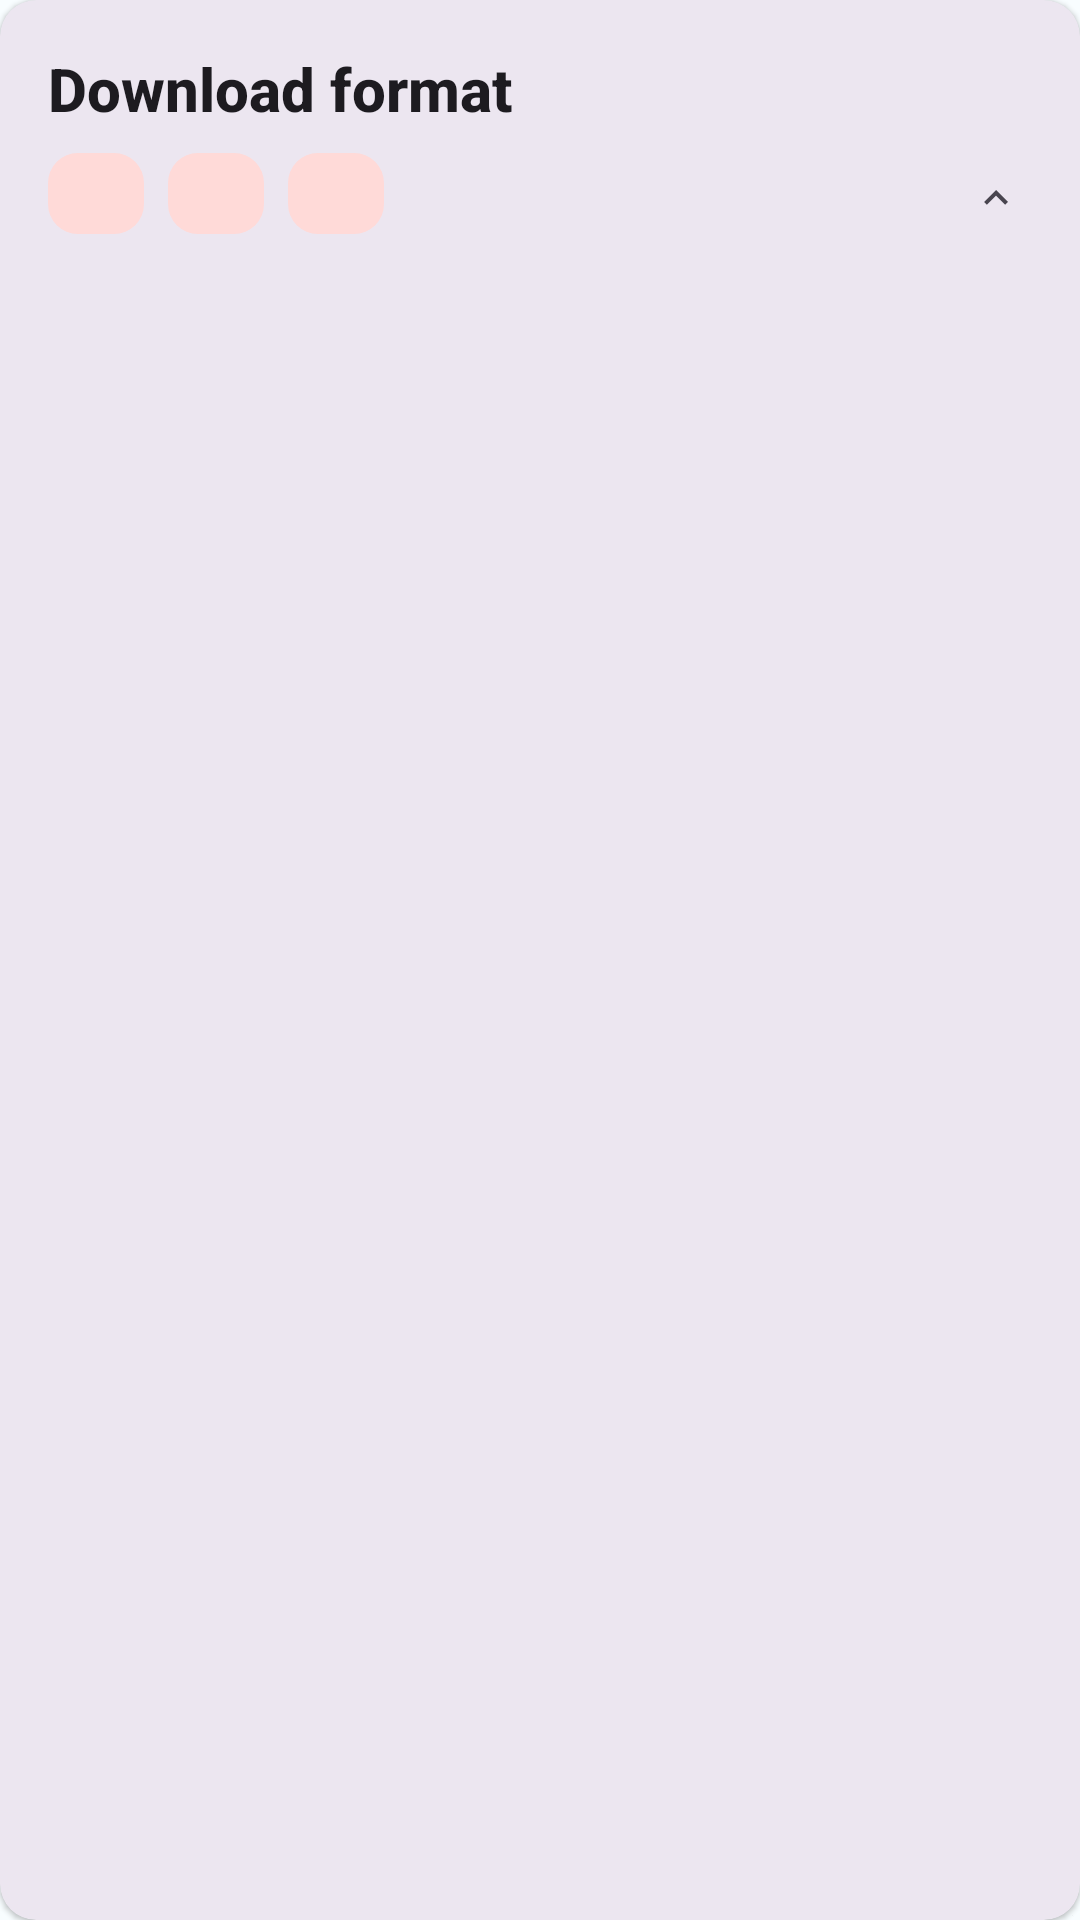

Icons on this 1080x1920 Android screen, each with its box as (x1, y1, x2, y2):
Expand to see download info: (984, 190, 1008, 205)
